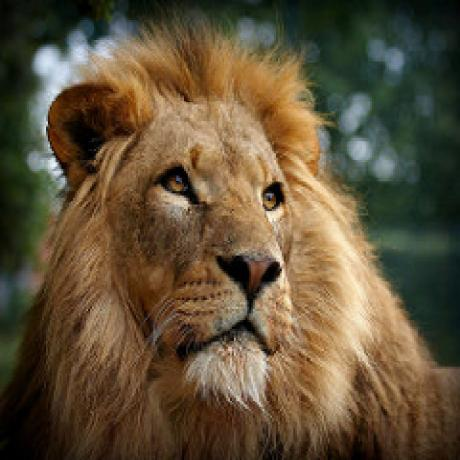Lion: (12, 29, 458, 460)
